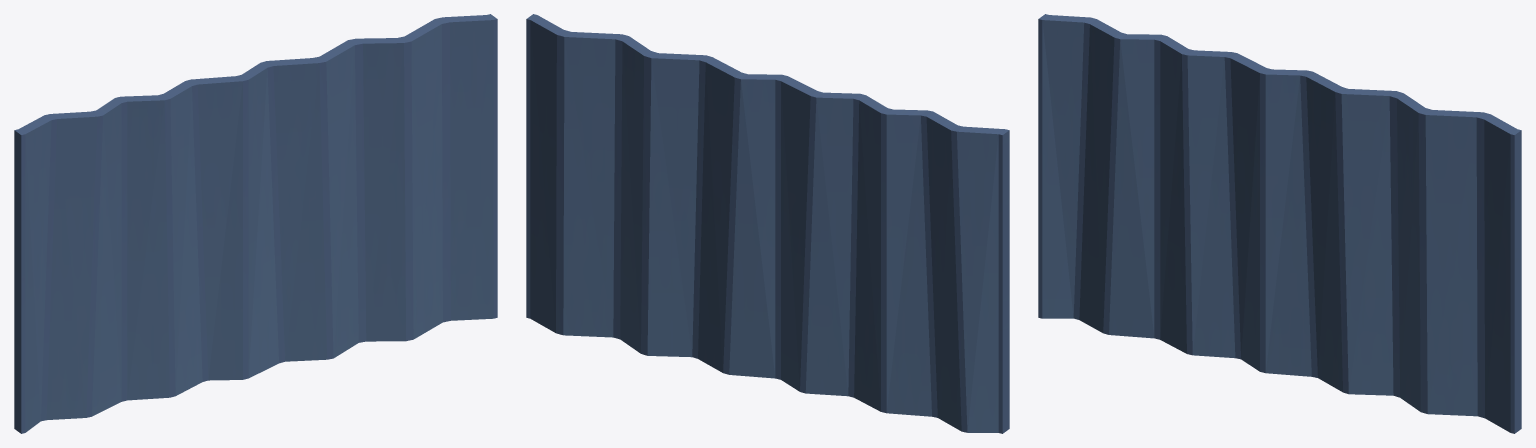
The model's file is metal_board_3.dae.
3 views of the same model, side by side, from view 1: azimuth 30°, elevation 25°; view 2: azimuth 150°, elevation 25°; view 3: azimuth 330°, elevation 25° (orthographic).
Visible parts, largest first — view 1: metal_board_3; view 2: metal_board_3; view 3: metal_board_3.
Boxes of the visible parts, left/top/right/bottom form: metal_board_3: left=14, top=14, right=497, bottom=433; metal_board_3: left=526, top=14, right=1009, bottom=433; metal_board_3: left=1038, top=14, right=1521, bottom=433.
Size of the model in its own units: 1.58 by 0.0992 by 0.9494.
